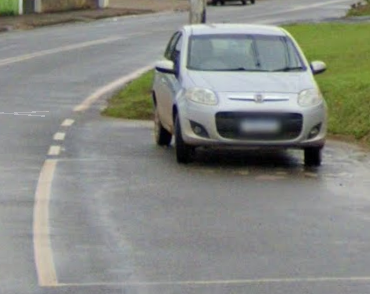car: (145, 18, 333, 178)
